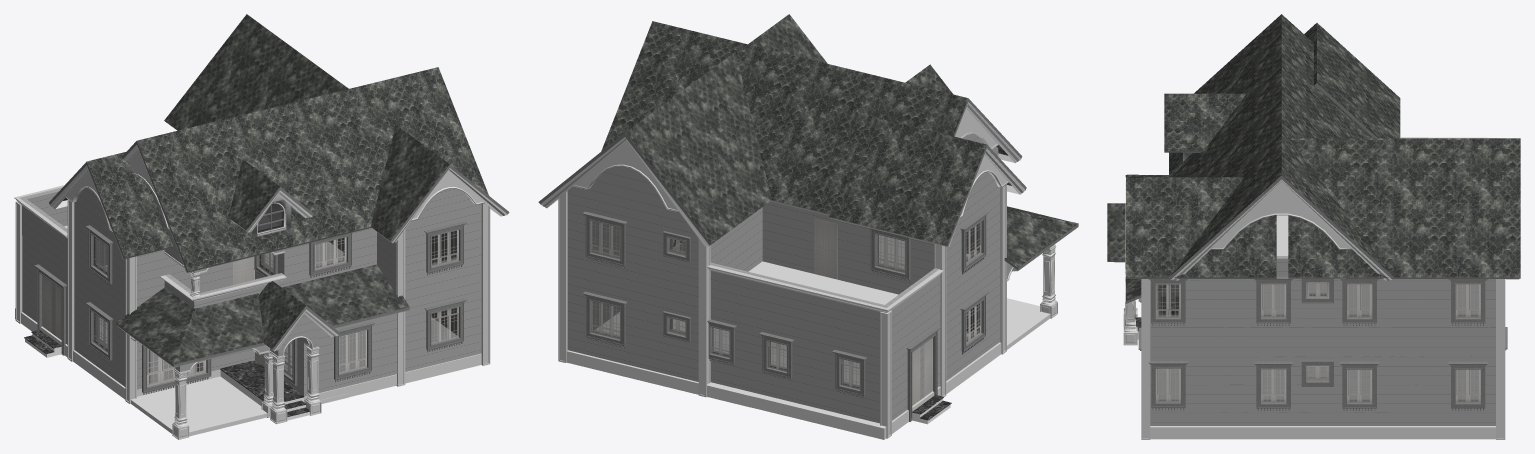
Rendered from house.glb.
3 renders of one model, left to right at view 1: azimuth 30°, elevation 25°; view 2: azimuth 150°, elevation 25°; view 3: azimuth 270°, elevation 25°, orthographic. The views are drawn at different scales.
Visible parts, largest first — view 1: Plane.125, Vert.079, Vert.078, Vert.076, Plane.122, Plane.124, Plane.123, Plane.002, Plane, Vert.067, Plane.069, Plane.120 (+36 smaller); view 2: Plane.125, Vert.079, Vert.078, Plane.122, Plane.124, Vert.067, Plane.001, Plane, Plane.003, Vert.076, Plane.112, Cube.027 (+31 smaller); view 3: Plane.122, Vert.079, Plane.125, Vert.078, Plane.123, Plane, Plane.124, Plane.069, Vert.074, Plane.001, Cube.028, Cube.030 (+22 smaller).
Boxes of the visible parts, box(x1,y1,x2,y2) form: Plane.125: box(122, 67, 488, 272); Vert.079: box(22, 224, 481, 396); Vert.078: box(74, 199, 481, 310); Vert.076: box(116, 264, 409, 366); Plane.122: box(164, 14, 348, 130); Plane.124: box(49, 152, 172, 258); Plane.123: box(370, 125, 509, 242); Plane.002: box(131, 376, 348, 436); Plane: box(284, 241, 481, 401); Vert.067: box(20, 188, 67, 268); Plane.069: box(228, 159, 313, 231); Plane.120: box(259, 281, 339, 350); Plane.125: box(601, 21, 1022, 214); Vert.079: box(567, 232, 999, 423); Vert.078: box(567, 184, 999, 301); Plane.122: box(538, 52, 771, 245); Plane.124: box(829, 116, 1026, 246); Vert.067: box(710, 262, 940, 343); Plane.001: box(707, 332, 1001, 439); Plane: box(566, 312, 752, 407); Plane.003: box(748, 235, 967, 304); Vert.076: box(1004, 206, 1078, 270); Plane.112: box(569, 166, 683, 218); Cube.027: box(698, 239, 710, 397); Plane.122: box(1288, 138, 1520, 278); Vert.079: box(1150, 296, 1495, 425); Plane.125: box(1169, 14, 1393, 278); Vert.078: box(1150, 256, 1495, 342); Plane.123: box(1126, 177, 1276, 278); Plane: box(1150, 367, 1495, 439); Plane.124: box(1304, 23, 1400, 138); Plane.069: box(1164, 93, 1246, 151); Vert.074: box(1211, 182, 1352, 249); Plane.001: box(1262, 283, 1478, 314); Cube.028: box(1496, 279, 1505, 439); Cube.030: box(1141, 279, 1150, 439).
Bounding box in the file's own units: 13.94 × 9.71 × 13.42.
15 materials, 10 textured.
